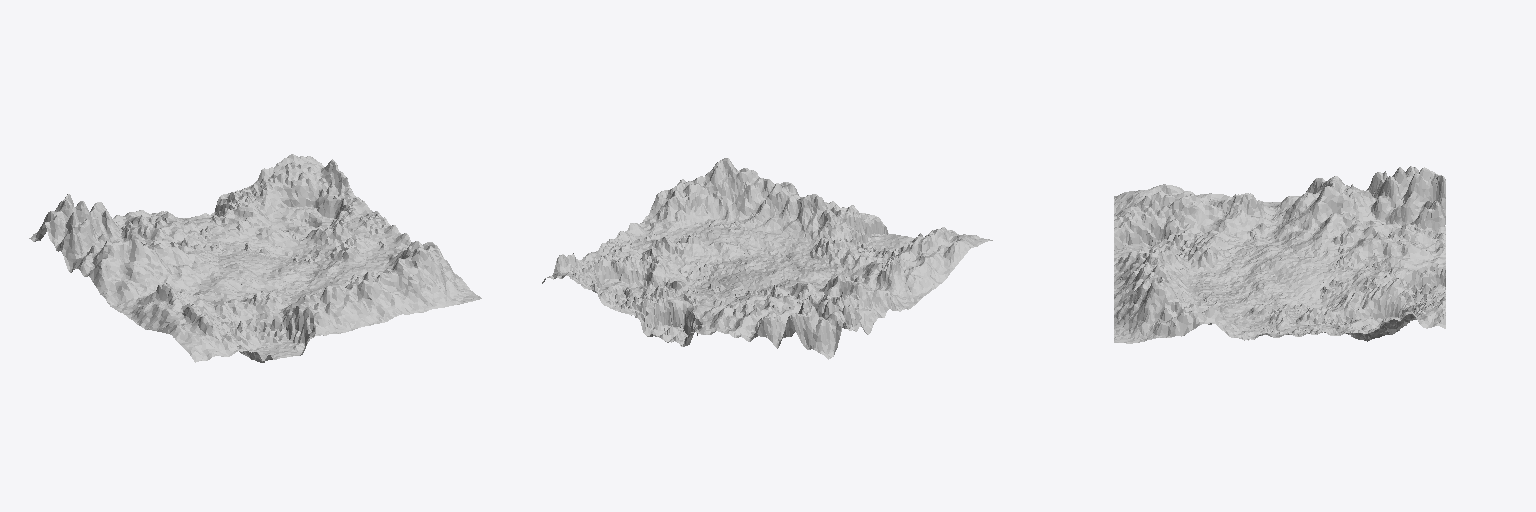
The model's file is moonTerrainUpdated.obj.
The picture shows the model from 3 angles: view 1: azimuth 30°, elevation 25°; view 2: azimuth 150°, elevation 25°; view 3: azimuth 270°, elevation 25°; orthographic projection.
Visible parts, largest first — view 1: moonTerrain; view 2: moonTerrain; view 3: moonTerrain.
Part boxes in pixels (x1,y1,x2,y2): moonTerrain: (29, 154, 481, 362); moonTerrain: (542, 158, 992, 359); moonTerrain: (1114, 166, 1445, 343).
Size of the model in its own units: 120 by 25.37 by 120.